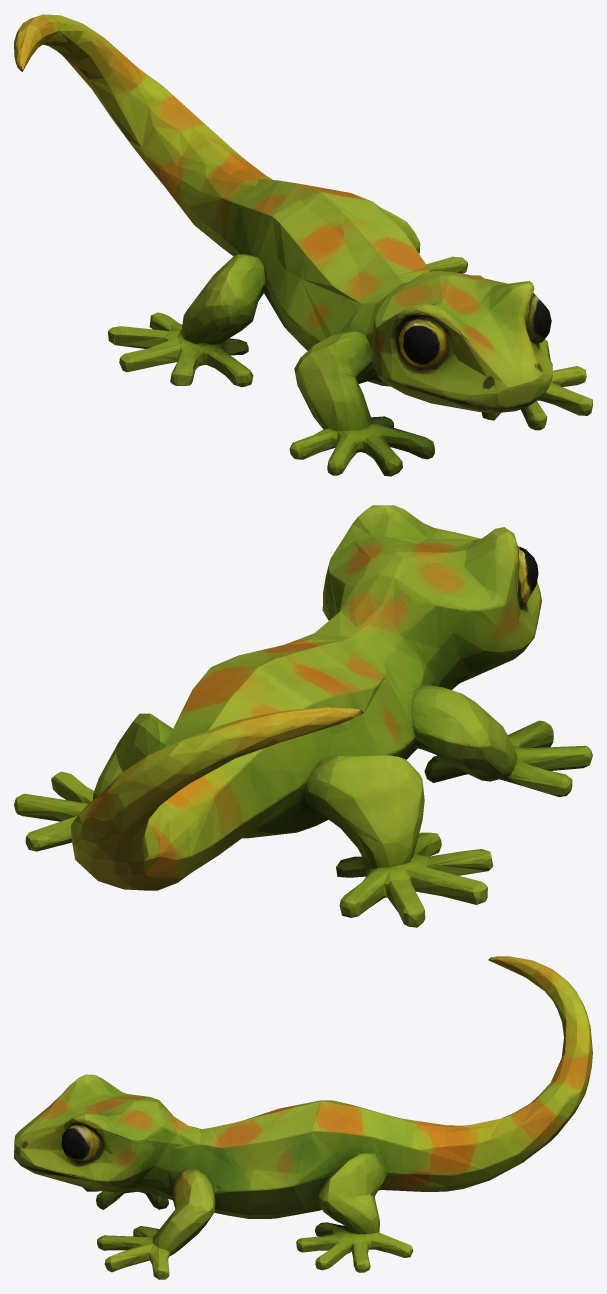
The model's file is gecko.glb.
3 renders of one model, top to bottom at view 1: azimuth 30°, elevation 25°; view 2: azimuth 150°, elevation 25°; view 3: azimuth 270°, elevation 25°, orthographic. The views are drawn at different scales.
Parts seen in each view (by area): view 1: world; view 2: world; view 3: world.
Part boxes in pixels (bbox=[...]): world: bbox=[14, 14, 592, 476]; world: bbox=[14, 505, 592, 927]; world: bbox=[14, 956, 592, 1279].
Size of the model in its own units: 0.5602 by 0.384 by 0.9984.
1 material, 1 textured.
